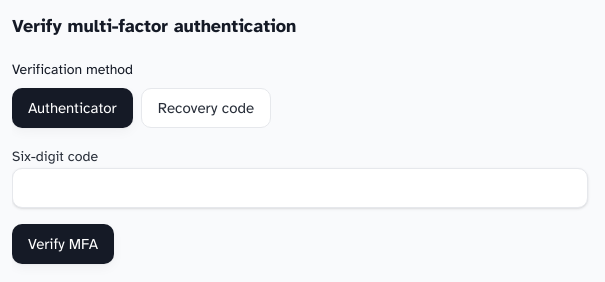
it: platform MFA without tenant authentication › uses only the chosen recovery factor and does not enroll a challenge session
Click the button "Recovery code" at {"x": 206, "y": 108}, box [141,88,271,128]
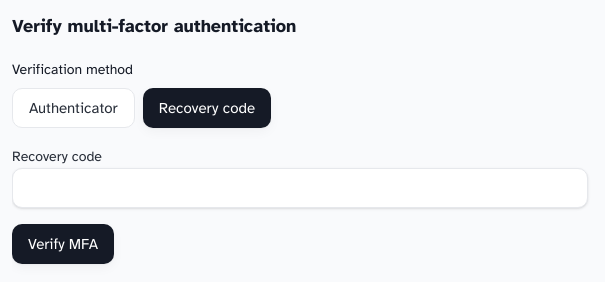
Type "TEST-RECOVERY-CODE" into the field labelled "Recovery code" at {"x": 300, "y": 188}, box [12,168,588,208]
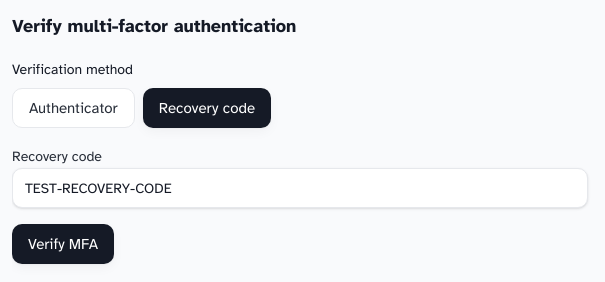
Click the button "Verify MFA" at {"x": 63, "y": 244}, box [12,224,114,264]
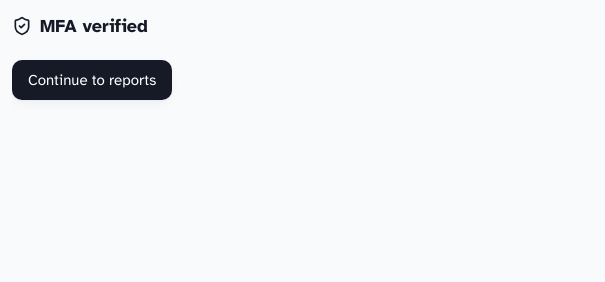
Now the heading "MFA verified" is shown, box [12,15,148,37]
